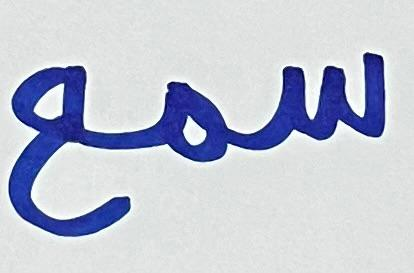ain: (7, 46, 127, 240)
meem: (130, 62, 244, 183)
seen: (247, 37, 393, 161)
